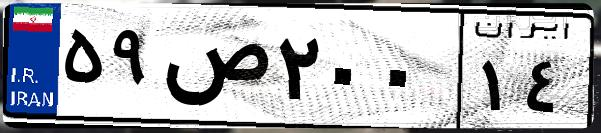0: (385, 28, 445, 110), (330, 28, 385, 110)
1: (475, 38, 525, 113)
2: (270, 28, 330, 110)
4: (525, 38, 570, 115)
5: (57, 26, 110, 100)
9: (110, 28, 158, 98)
ص: (158, 20, 270, 120)
